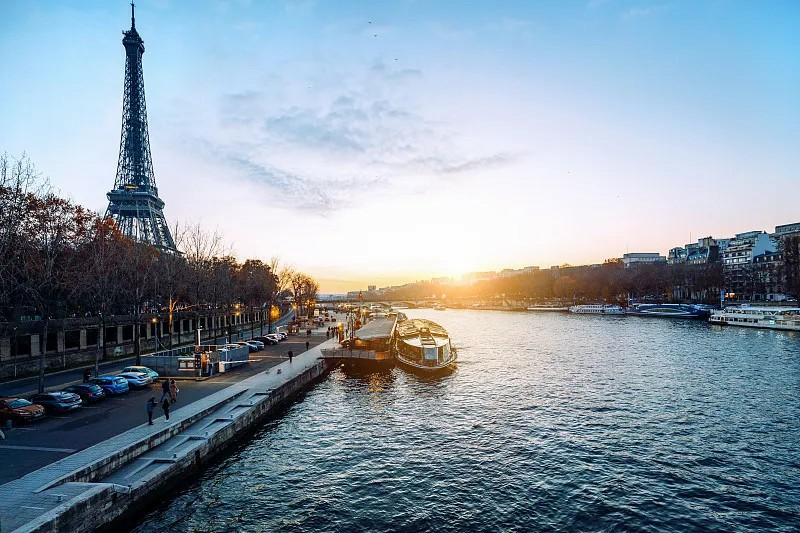Eiffel: (100, 1, 184, 260)
